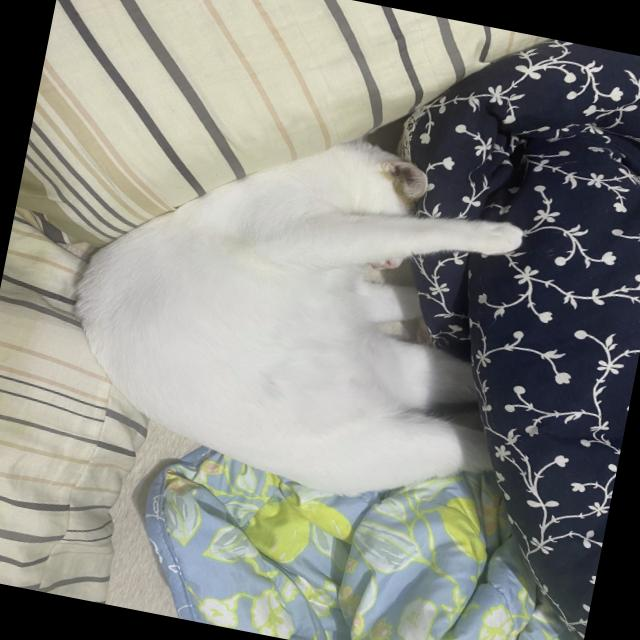cat1: (47, 82, 548, 526)
